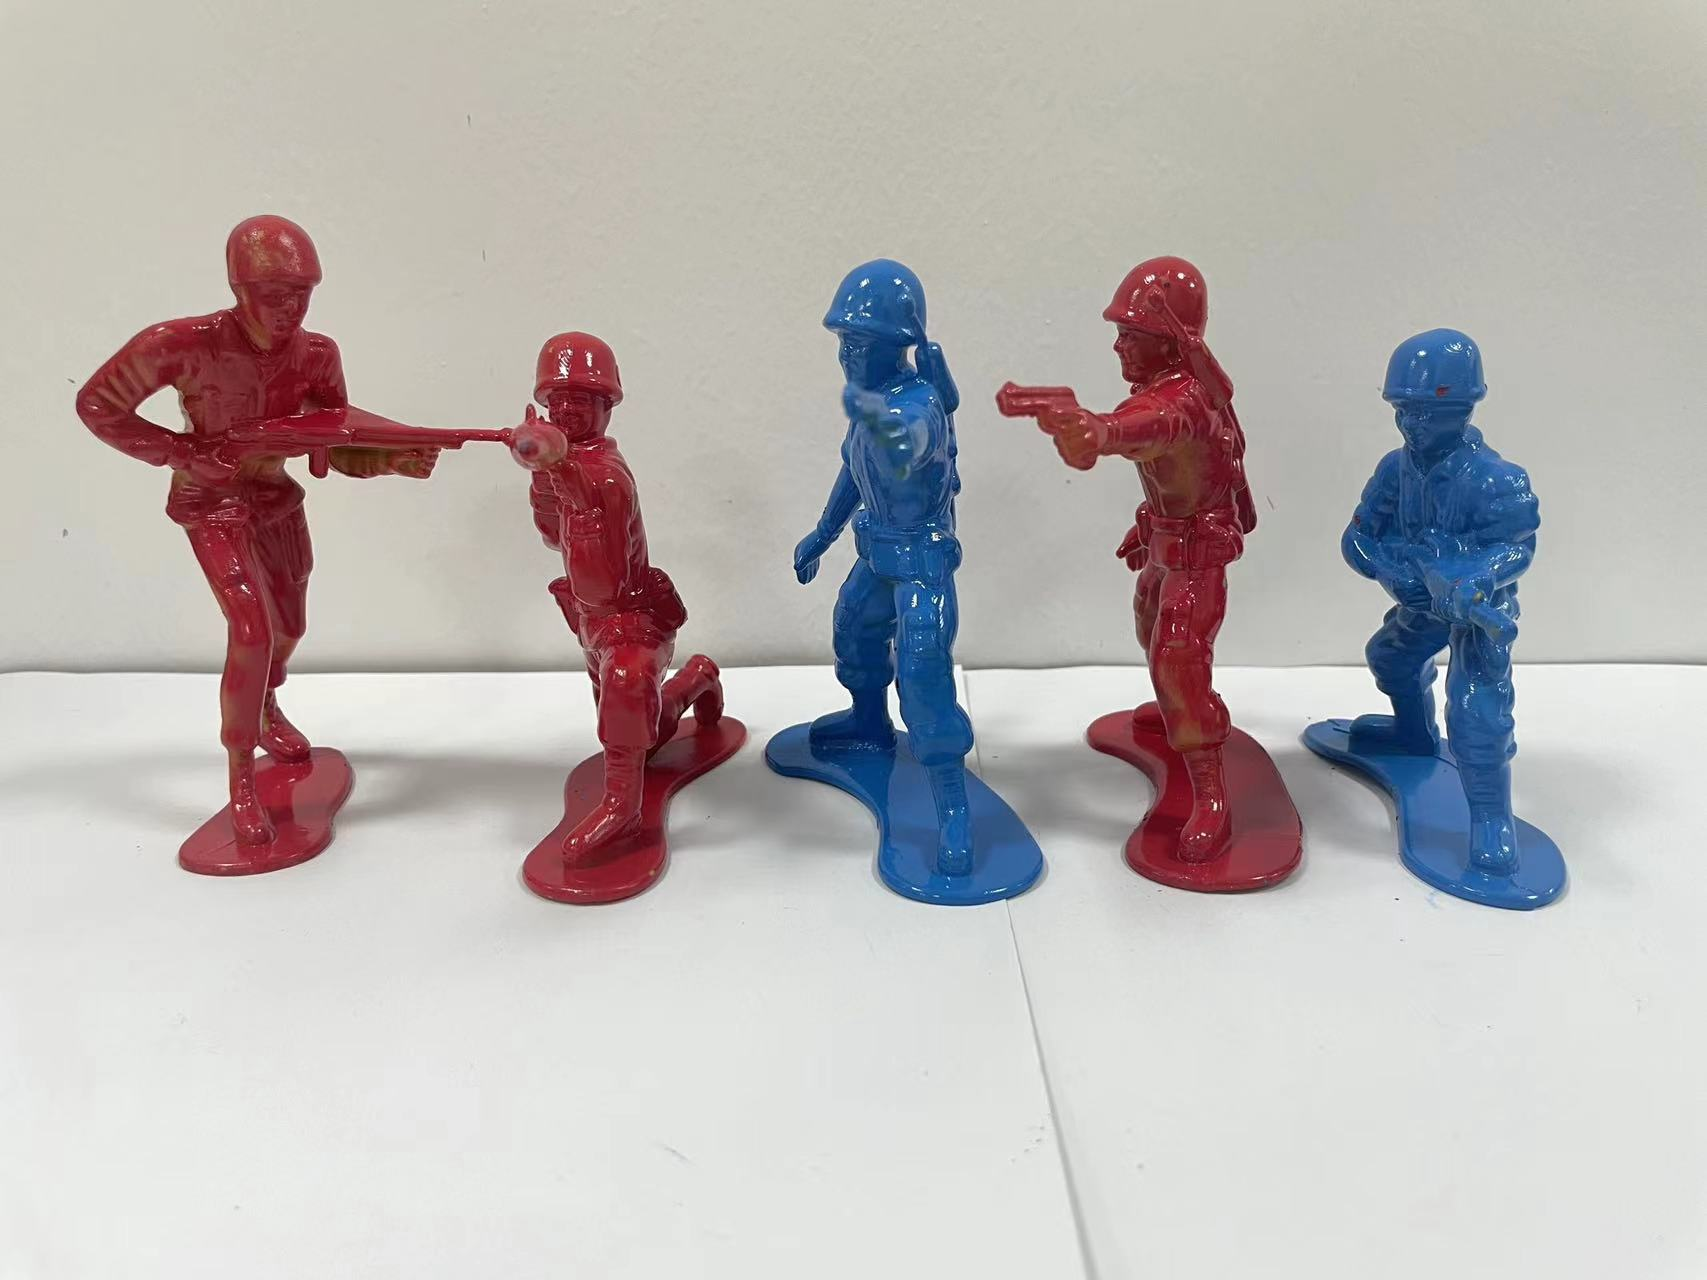blue: (751, 238, 1047, 955), (1298, 321, 1620, 948)
red: (52, 204, 466, 897), (1020, 211, 1317, 957), (460, 301, 759, 943)
